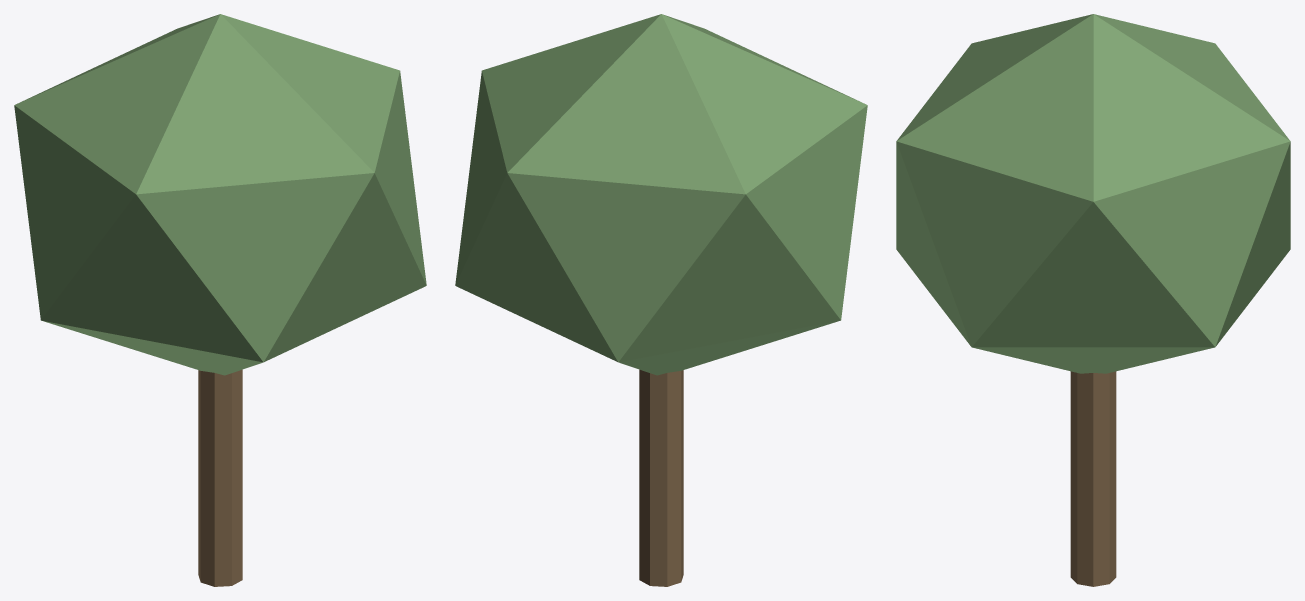
File: Tree_Round.fbx
3 views of the same model, side by side, from view 1: azimuth 30°, elevation 25°; view 2: azimuth 150°, elevation 25°; view 3: azimuth 270°, elevation 25° (orthographic).
Parts seen in each view (by area): view 1: Tree_Round; view 2: Tree_Round; view 3: Tree_Round.
Boxes of the visible parts, x1,y1,x2,y2 form: Tree_Round: (14,14,426,586); Tree_Round: (455,14,867,586); Tree_Round: (896,14,1290,586).
Size of the model in its own units: 2.36 by 3.54 by 2.25.
